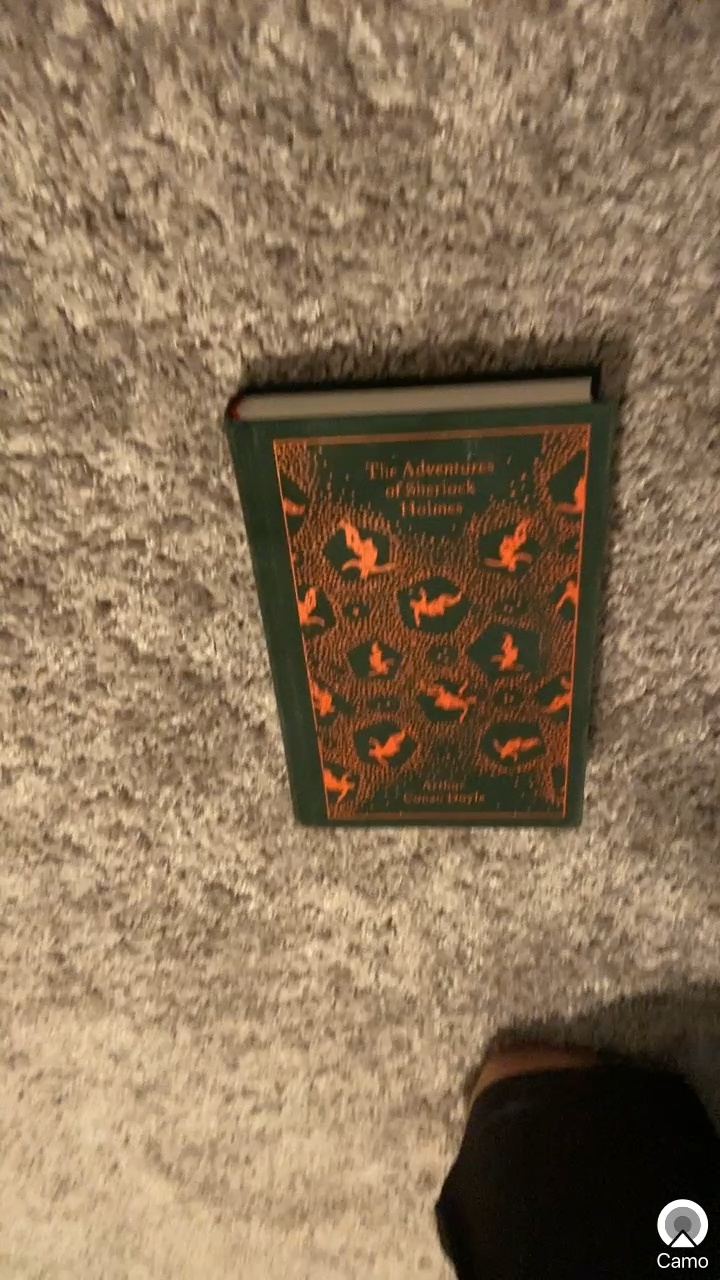Book: (204, 336, 635, 865)
